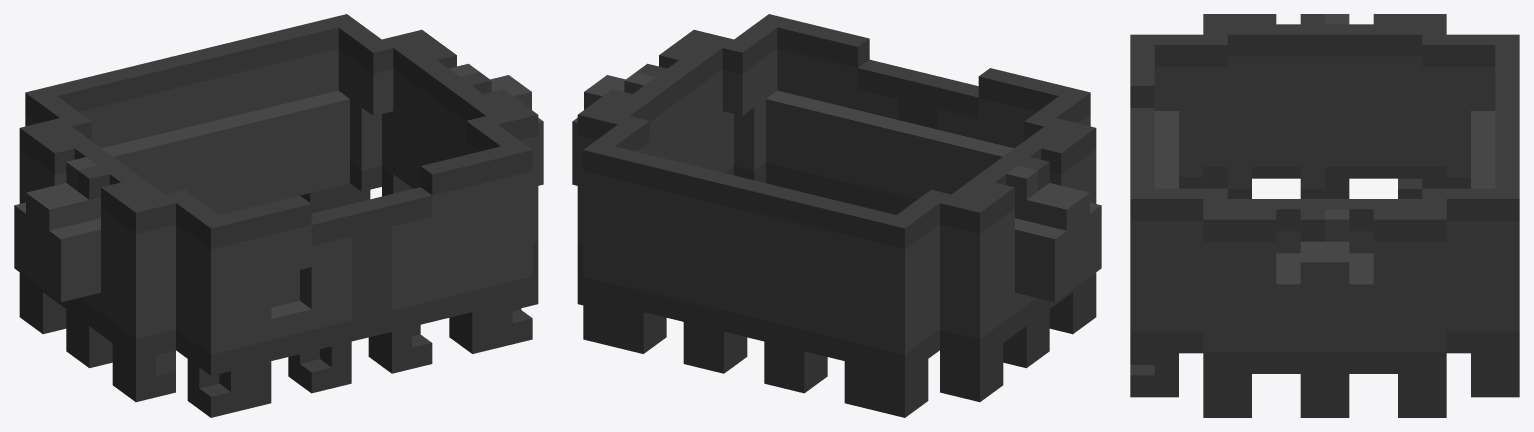
The picture shows the model from 3 angles, left to right: view 1: azimuth 30°, elevation 25°; view 2: azimuth 150°, elevation 25°; view 3: azimuth 270°, elevation 25°; orthographic projection. The views are drawn at different scales.
Parts seen in each view (by area): view 1: 125; view 2: 125; view 3: 125.
Boxes of the visible parts, box(x1,y1,x2,y2) form: 125: box(14, 14, 543, 417); 125: box(572, 14, 1101, 417); 125: box(1130, 14, 1519, 417).
Size of the model in its own units: 240 by 90 by 160.
1 material, 1 textured.
